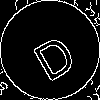D: (25, 25, 80, 83)
